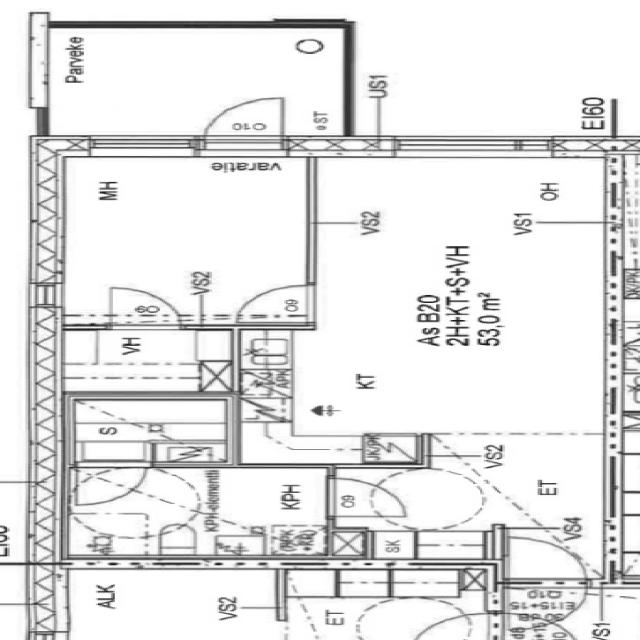door: (500, 530, 593, 586), (322, 472, 411, 522), (198, 95, 288, 144), (100, 284, 184, 330), (234, 281, 316, 324), (405, 611, 481, 640), (508, 618, 580, 640)
window: (382, 131, 565, 162), (66, 129, 203, 160), (192, 134, 292, 158), (22, 278, 62, 312)
zone: (41, 153, 314, 314), (43, 27, 334, 132), (328, 434, 616, 527), (63, 465, 332, 559), (35, 568, 288, 640), (278, 570, 491, 640), (64, 396, 231, 466), (55, 328, 228, 395), (501, 585, 595, 639)
